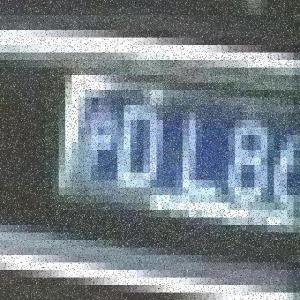Plate: (46, 56, 300, 248)
